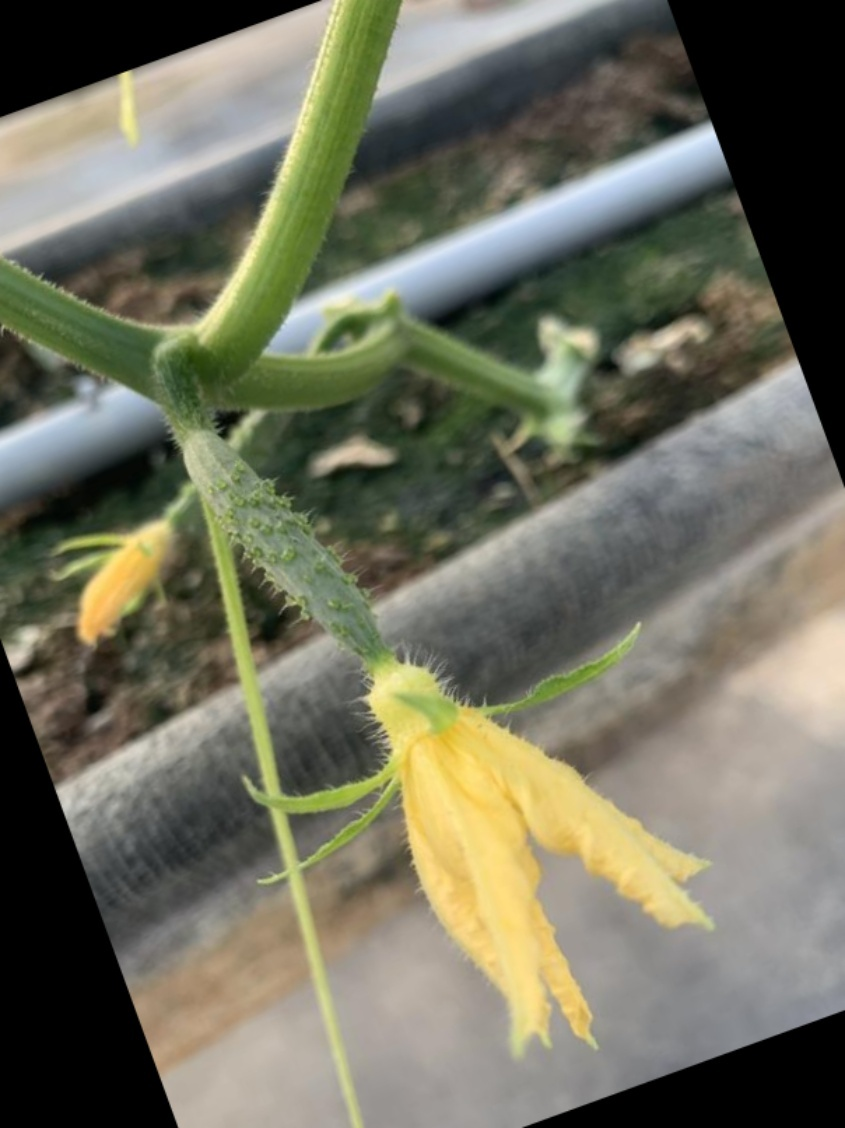bear: (179, 420, 677, 1005)
